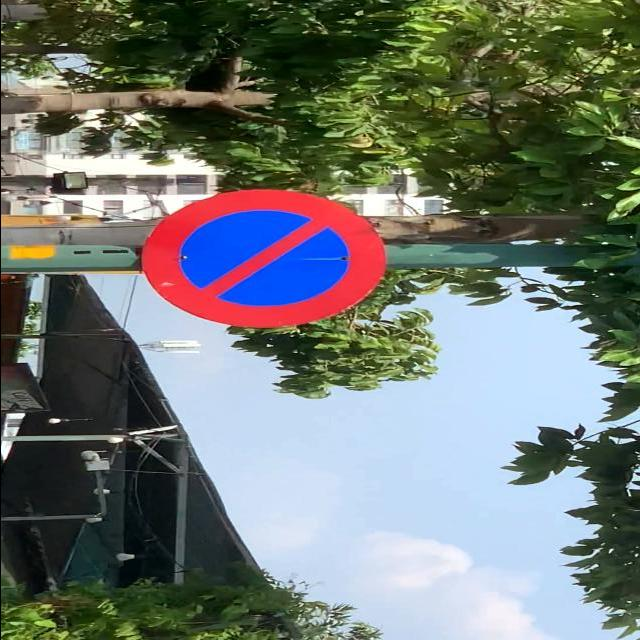P-131a: (142, 192, 386, 326)
